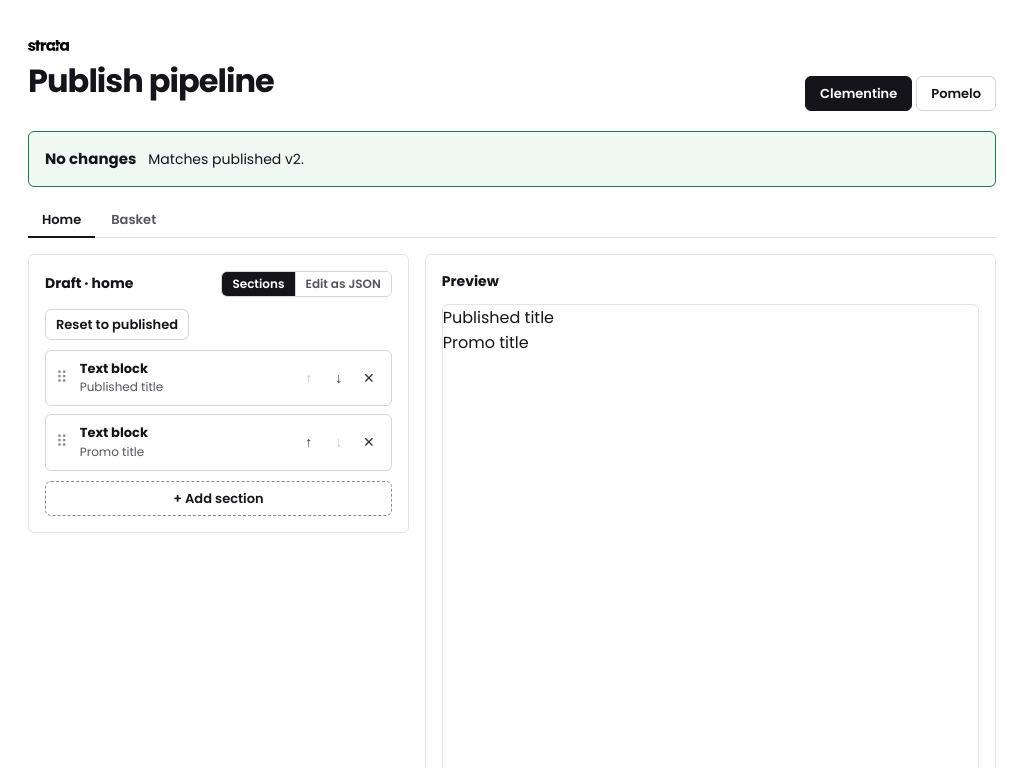
Scenario: the JSON view › lists every key a layout can use, starting with a type in the draft
Expected: the text "Matches published v2." is shown, [148, 150, 304, 170]
Click the button "Edit as JSON": (343, 284) [294, 272, 391, 296]
(page scrolled)
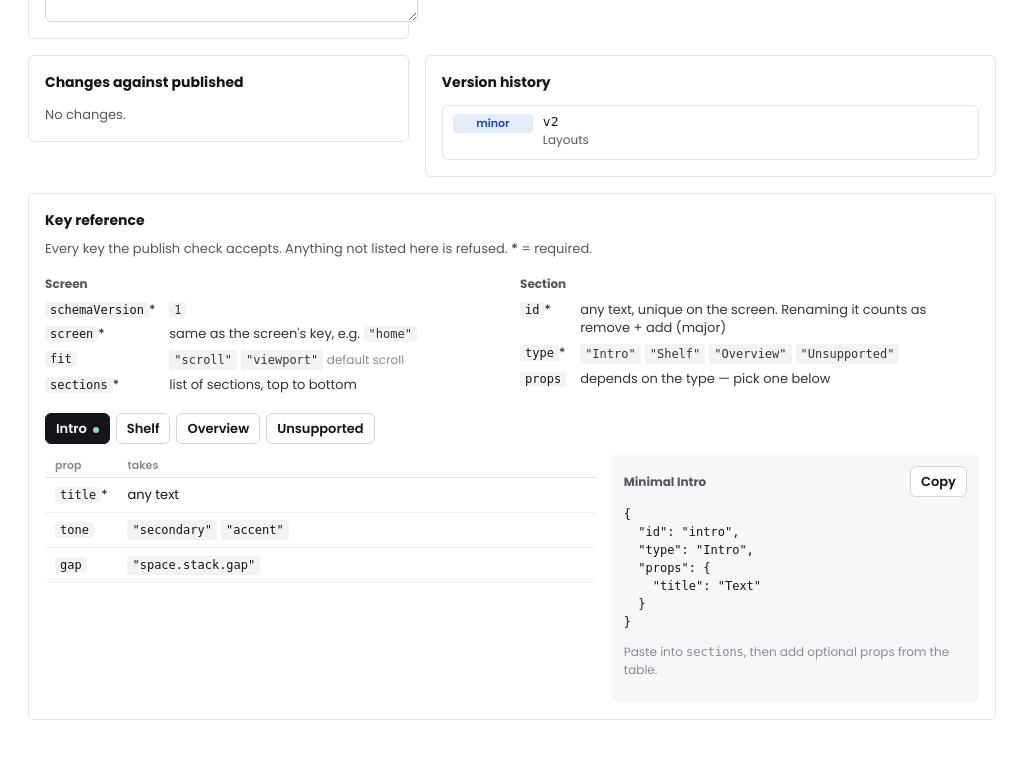
Now the text "\"accent\"" is shown, box [221, 520, 289, 540]
Now the text "\"space.stack.gap\"" is shown, box [128, 555, 260, 575]
Click the tab "Shelf": (143, 429) [116, 413, 170, 444]
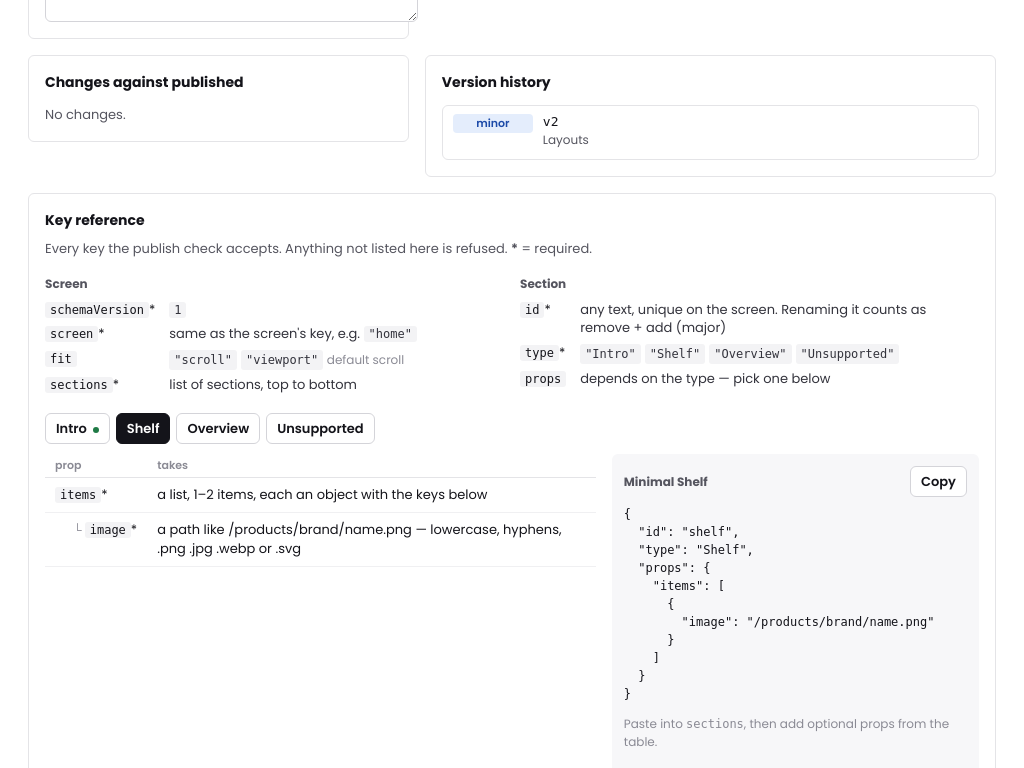
Now the text "a list, 1–2 items, each an object with the keys below" is shown, box [157, 485, 488, 504]
Now the text "\"image\": \"/products/brand/name.png\"" is shown, box [624, 507, 934, 701]
